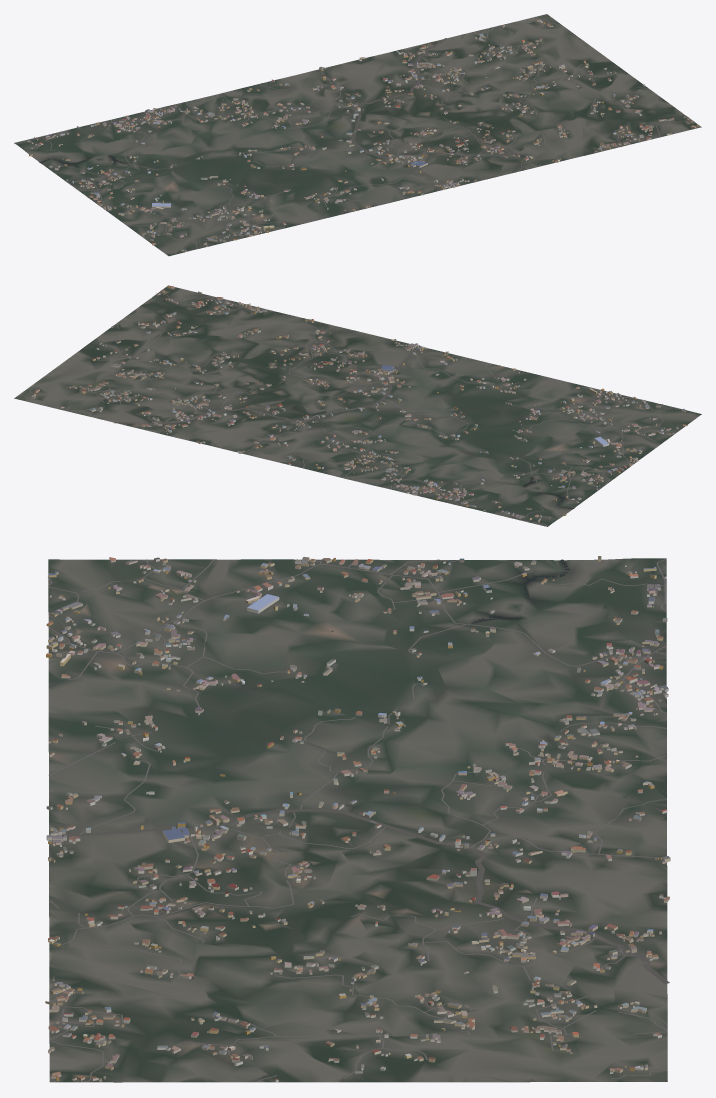
The picture shows the model from 3 angles, top to bottom: view 1: azimuth 30°, elevation 25°; view 2: azimuth 150°, elevation 25°; view 3: azimuth 270°, elevation 25°; orthographic projection. The views are drawn at different scales.
Parts seen in each view (by area): view 1: ground, buildings, roads; view 2: ground, buildings, roads; view 3: ground, buildings, roads.
Part boxes in pixels (x1=…): ground: x1=14, y1=14, x2=700, y2=256; buildings: x1=27, y1=19, x2=698, y2=251; roads: x1=15, y1=17, x2=701, y2=251; ground: x1=14, y1=285, x2=701, y2=526; buildings: x1=31, y1=285, x2=687, y2=522; roads: x1=24, y1=285, x2=681, y2=526; ground: x1=48, y1=558, x2=667, y2=1082; buildings: x1=45, y1=556, x2=670, y2=1082; roads: x1=48, y1=559, x2=669, y2=1082.
Size of the model in its own units: 2804 by 21.05 by 1419.
